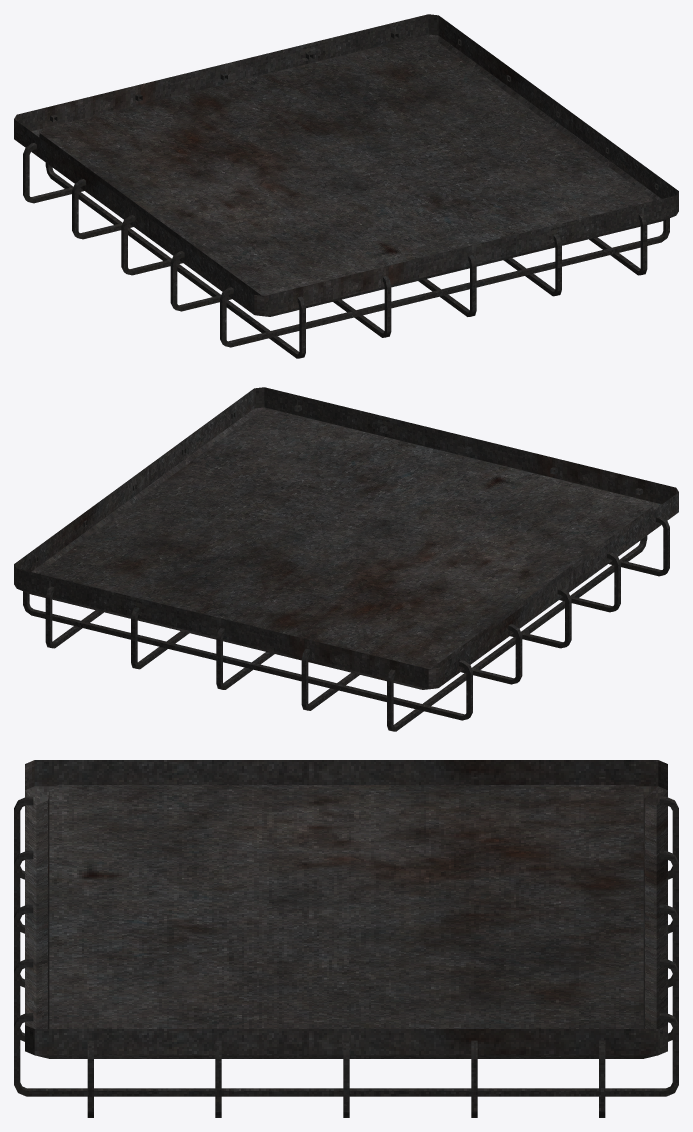
The model's file is ceiling_lamp_1_off.glb.
3 renders of one model, top to bottom at view 1: azimuth 30°, elevation 25°; view 2: azimuth 150°, elevation 25°; view 3: azimuth 270°, elevation 25°, orthographic. The views are drawn at different scales.
Visible parts, largest first — view 1: ceiling_lamp_1_off, ceiling_lamp_1_off_protector; view 2: ceiling_lamp_1_off, ceiling_lamp_1_off_protector; view 3: ceiling_lamp_1_off, ceiling_lamp_1_off_protector.
Part boxes in pixels (x1,y1,x2,y2): ceiling_lamp_1_off: (14,14,678,316); ceiling_lamp_1_off_protector: (23,31,669,358); ceiling_lamp_1_off: (14,387,678,689); ceiling_lamp_1_off_protector: (23,404,669,731); ceiling_lamp_1_off: (25,760,667,1058); ceiling_lamp_1_off_protector: (14,771,678,1117).
Bounding box in the file's own units: 1.05 × 0.16 × 1.04.
Materials: 3 (3 with a texture image).
